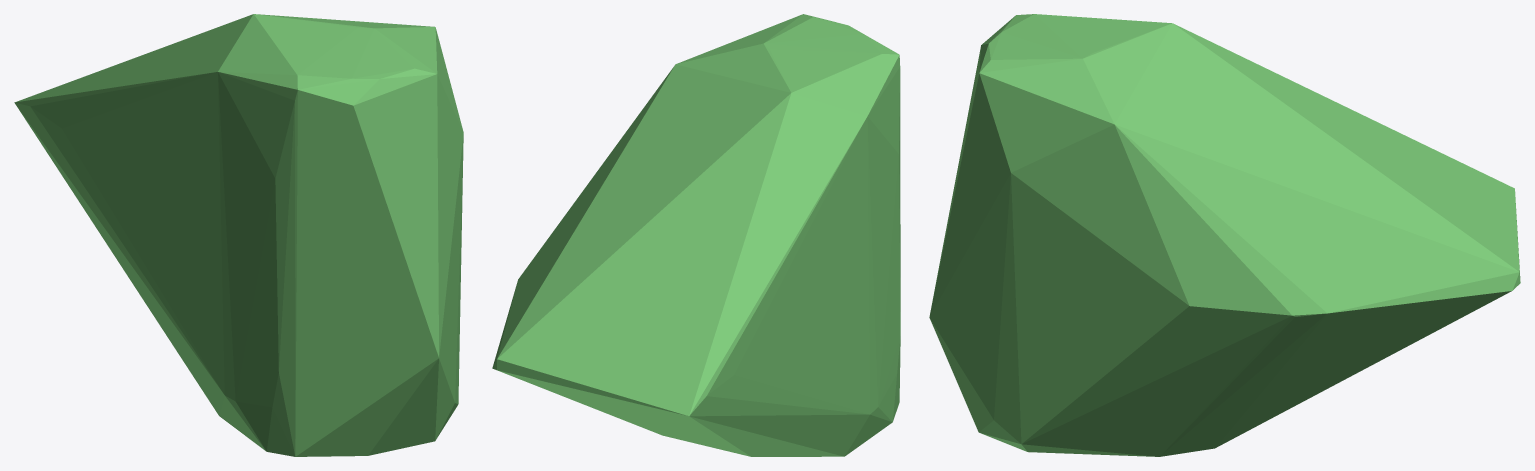
File: serviceTool_inflator_b01.glb
3 views of the same model, side by side, from view 1: azimuth 30°, elevation 25°; view 2: azimuth 150°, elevation 25°; view 3: azimuth 270°, elevation 25° (orthographic). The views are drawn at different scales.
Parts seen in each view (by area): view 1: geometry_0; view 2: geometry_0; view 3: geometry_0.
Part boxes in pixels (bbox=[...]): geometry_0: bbox=[14, 14, 463, 456]; geometry_0: bbox=[492, 14, 900, 456]; geometry_0: bbox=[929, 14, 1520, 456].
Size of the model in its own units: 0.2589 by 0.3348 by 0.4736.
